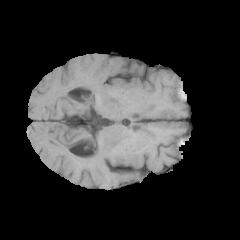glioma: (92, 151, 145, 180)
